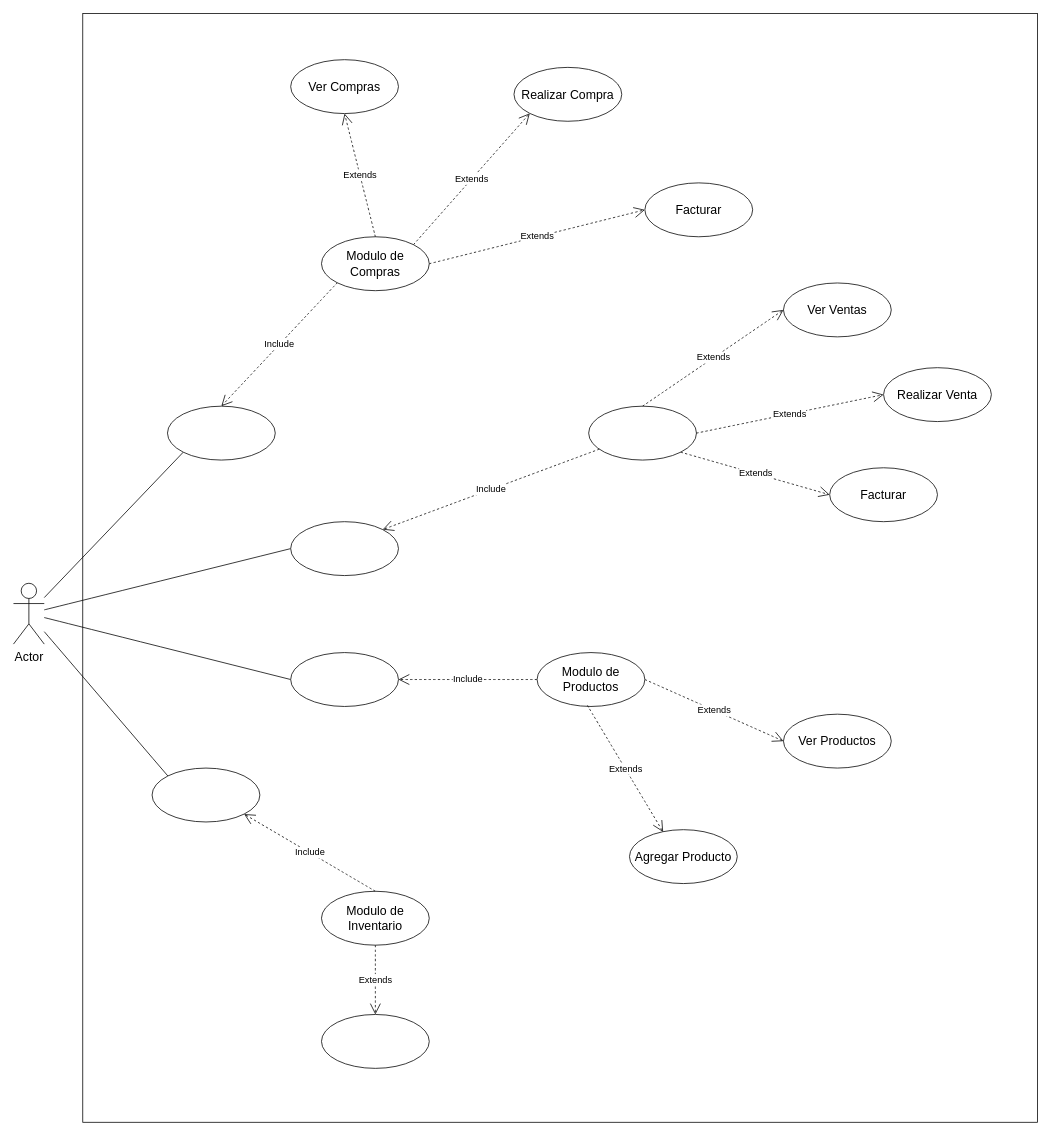
Image size: 1051x1136. Some labels were removed from this diagram. The shapes that lost their labels are listed below. From the top down, each one's centre as x and y in pixels, then its label:
At point (221, 432): "Compras".
At point (642, 432): "Modulo de Ventas".
At point (344, 548): "Ventas".
At point (344, 679): "Productos".
At point (205, 794): "Inventario".
At point (375, 1041): "Consultar Inventario".
